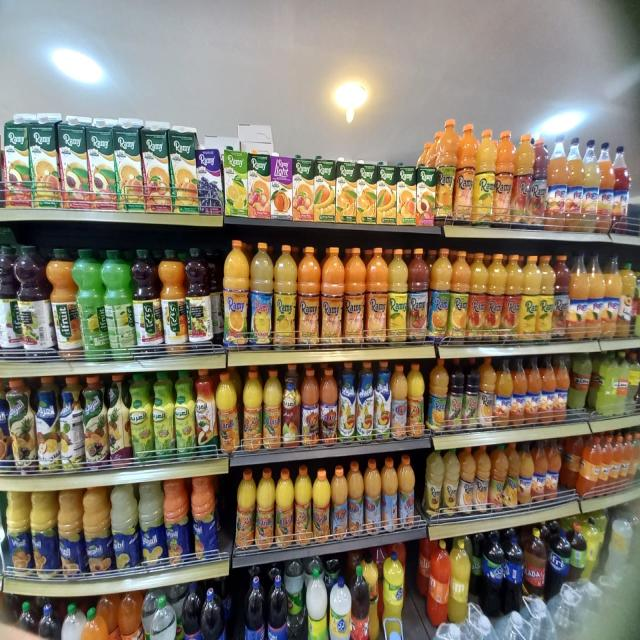el_arabi_plastique: (7, 380, 38, 473), (82, 487, 114, 576), (30, 489, 60, 579), (57, 489, 86, 579), (82, 374, 109, 469), (110, 483, 138, 573), (35, 377, 62, 470), (107, 373, 133, 468), (163, 478, 190, 569), (138, 480, 165, 571), (60, 376, 84, 471), (129, 372, 154, 463), (152, 371, 177, 458), (174, 371, 197, 456), (194, 371, 217, 454), (216, 370, 238, 452), (242, 369, 263, 449), (256, 468, 276, 550), (275, 468, 295, 548), (263, 370, 283, 449), (235, 474, 255, 552), (282, 364, 301, 446), (294, 466, 313, 543), (312, 467, 331, 543), (339, 363, 357, 443), (357, 361, 375, 441), (374, 363, 392, 442), (320, 366, 338, 444), (363, 459, 381, 534), (406, 362, 424, 437), (397, 455, 415, 528), (331, 464, 348, 540), (381, 456, 398, 532)
hamoud_plastique: (426, 539, 450, 628), (450, 543, 470, 625)
ifruit_plastique: (16, 246, 54, 356), (72, 248, 107, 362), (101, 250, 135, 359), (130, 250, 162, 354), (47, 252, 79, 353), (158, 252, 187, 354), (184, 248, 213, 348), (0, 243, 23, 353)
ramy_carton: (27, 115, 61, 208), (86, 119, 118, 211), (167, 126, 200, 215), (140, 123, 172, 214), (113, 120, 144, 212), (60, 113, 90, 208), (2, 114, 32, 207), (194, 146, 223, 216), (223, 148, 249, 218), (249, 152, 272, 218), (314, 156, 336, 221), (292, 157, 314, 221), (355, 161, 377, 225), (272, 154, 293, 219), (338, 158, 358, 222), (396, 161, 416, 223), (417, 163, 437, 224), (378, 163, 397, 224)
ramy_plastique: (222, 240, 250, 352), (250, 242, 274, 348), (274, 245, 298, 348), (435, 119, 459, 222), (298, 242, 320, 350), (321, 246, 344, 346), (546, 135, 570, 230), (344, 244, 366, 347), (456, 122, 478, 222), (474, 127, 496, 225), (366, 247, 388, 345), (512, 131, 534, 228), (494, 130, 516, 227), (406, 248, 428, 342), (429, 248, 451, 340), (388, 245, 408, 345), (520, 255, 542, 342), (529, 134, 549, 229), (566, 138, 586, 232), (568, 254, 590, 339), (485, 254, 506, 340), (468, 252, 488, 341), (581, 139, 600, 232), (503, 254, 523, 342), (596, 144, 616, 232), (538, 254, 557, 345), (452, 249, 470, 344), (602, 252, 622, 336), (587, 250, 606, 338), (552, 252, 571, 338), (478, 350, 497, 426), (494, 354, 514, 426), (441, 449, 461, 518), (456, 447, 476, 516), (429, 364, 448, 434), (425, 453, 444, 520), (489, 444, 508, 510), (511, 354, 528, 425), (474, 446, 492, 513), (540, 350, 556, 421), (505, 444, 522, 506), (518, 444, 534, 504)
